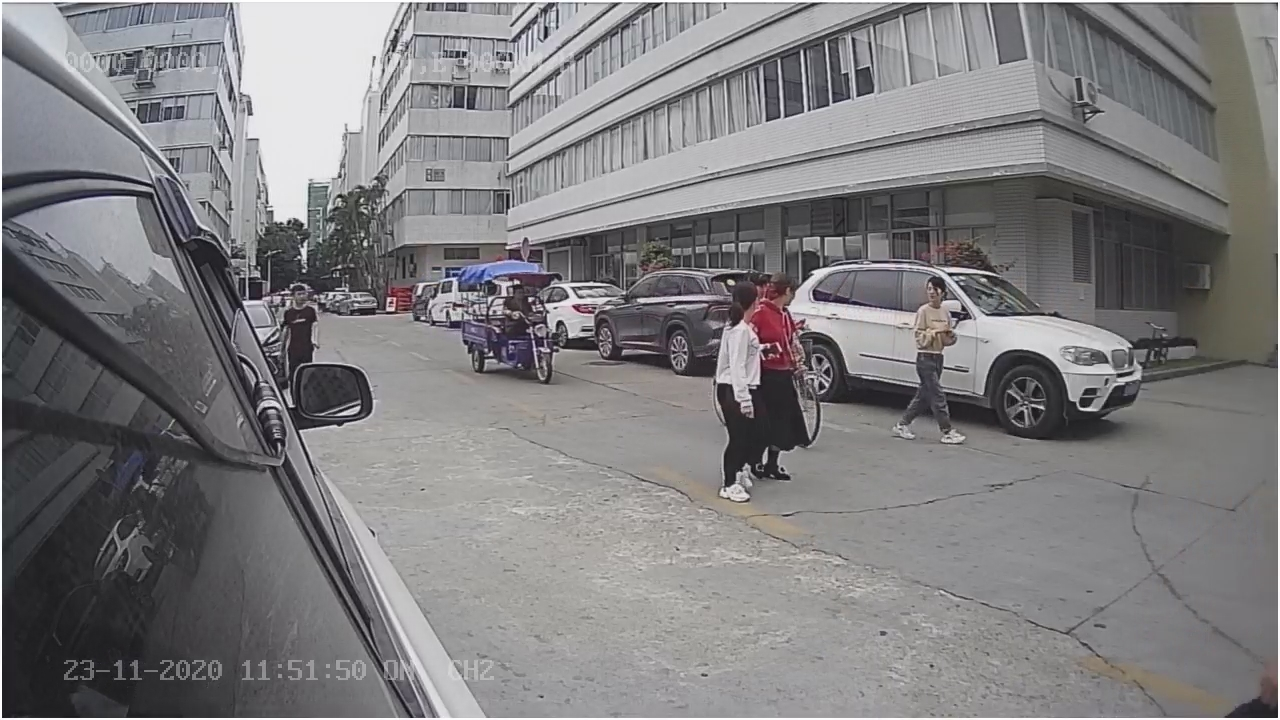person: (703, 279, 786, 502), (892, 262, 967, 452)
